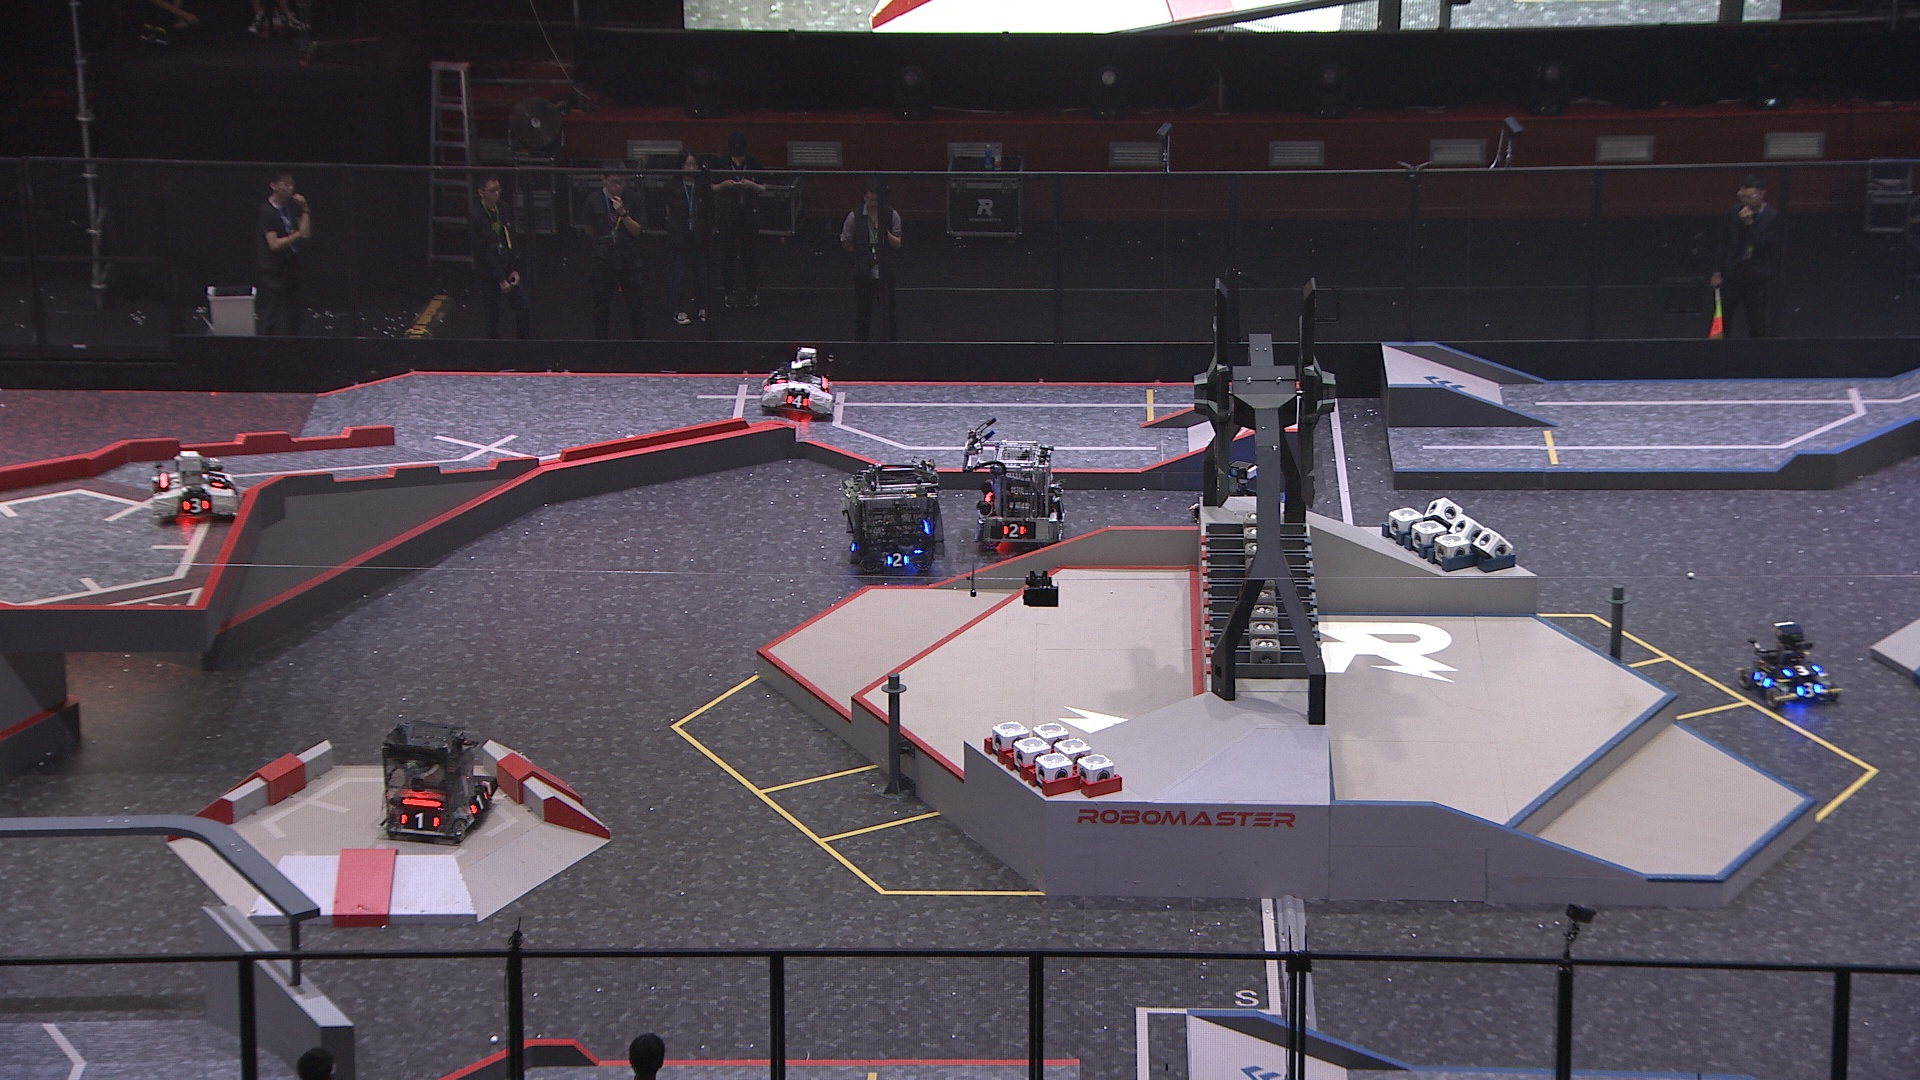armor: (398, 808, 442, 831), (1783, 661, 1821, 679), (179, 496, 211, 516), (469, 789, 491, 818), (1793, 680, 1822, 700), (1000, 522, 1027, 541), (885, 549, 910, 568), (1751, 669, 1774, 688), (785, 392, 808, 410), (206, 471, 228, 488), (770, 371, 789, 386)
car: (378, 723, 498, 844), (843, 462, 944, 575), (975, 436, 1064, 553), (1735, 618, 1844, 711), (145, 448, 239, 527), (756, 347, 835, 425)
